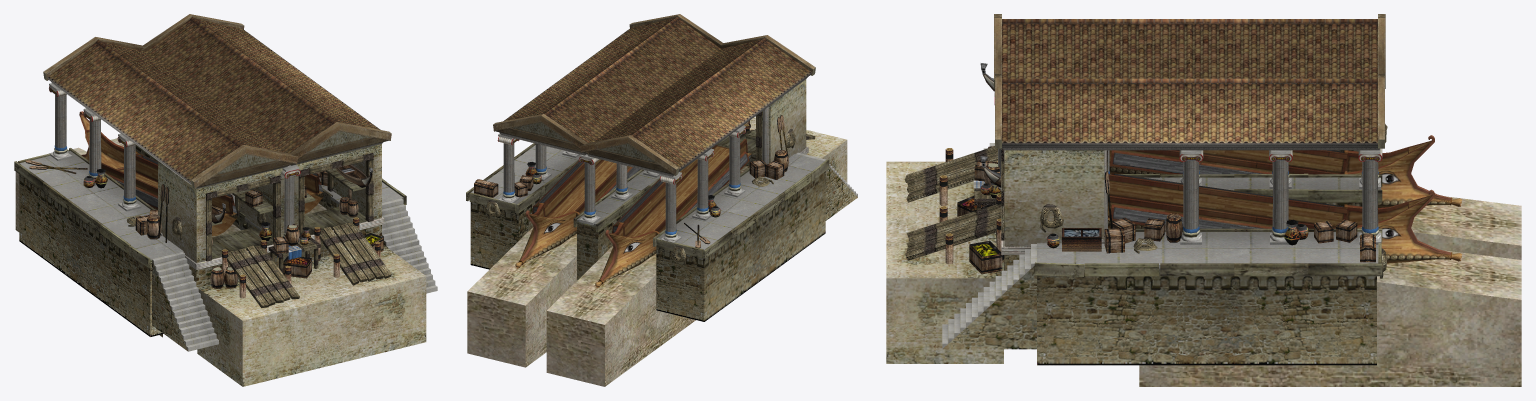
File: dock.glb
3 views of the same model, side by side, from view 1: azimuth 30°, elevation 25°; view 2: azimuth 150°, elevation 25°; view 3: azimuth 270°, elevation 25° (orthographic). The views are drawn at different scales.
Parts seen in each view (by area): view 1: dock_part1, dock_part4, dock_part5, dock_part0, dock_part3, dock_part2, dock_part6; view 2: dock_part1, dock_part0, dock_part3, dock_part4, dock_part5, dock_part6; view 3: dock_part1, dock_part0, dock_part3, dock_part4, dock_part5, dock_part2, dock_part6.
Part boxes in pixels (x1,y1,x2,y2): dock_part1: [14, 14, 426, 386]; dock_part4: [25, 94, 391, 307]; dock_part5: [20, 83, 437, 351]; dock_part0: [15, 17, 383, 337]; dock_part3: [79, 111, 323, 235]; dock_part2: [212, 164, 372, 223]; dock_part6: [49, 86, 300, 178]; dock_part1: [466, 14, 857, 321]; dock_part0: [467, 16, 811, 386]; dock_part3: [515, 139, 751, 288]; dock_part4: [474, 107, 815, 266]; dock_part5: [471, 125, 857, 249]; dock_part6: [497, 128, 745, 184]; dock_part1: [886, 14, 1385, 365]; dock_part0: [998, 19, 1521, 386]; dock_part3: [1108, 135, 1462, 263]; dock_part4: [904, 124, 1387, 278]; dock_part5: [942, 143, 1381, 348]; dock_part2: [980, 63, 1101, 251]; dock_part6: [994, 90, 1382, 161].
Size of the model in its own units: 2.94 by 2.44 by 4.8.
Materials: 7 (7 with a texture image).
